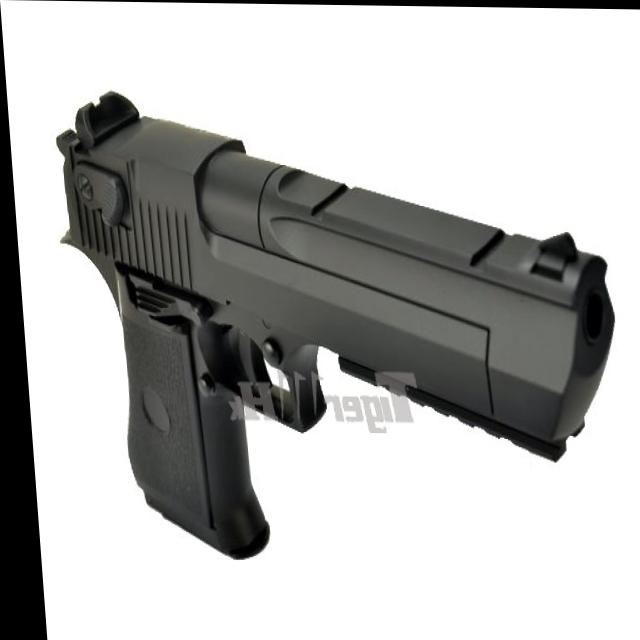handgun: (26, 84, 630, 567)
